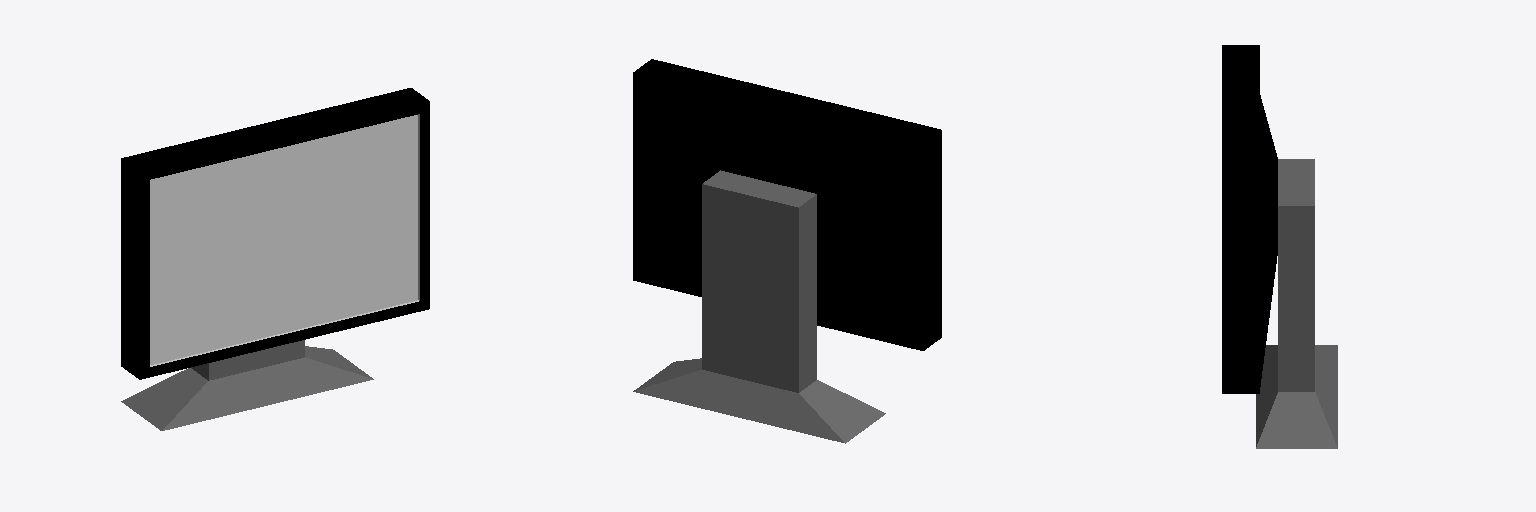
File: Monitor.obj
3 views of the same model, side by side, from view 1: azimuth 30°, elevation 25°; view 2: azimuth 150°, elevation 25°; view 3: azimuth 270°, elevation 25° (orthographic).
Parts seen in each view (by area): view 1: Monitor; view 2: Monitor; view 3: Monitor.
Boxes of the visible parts, <box> form: Monitor: <box>121,88,429,430</box>; Monitor: <box>633,59,941,443</box>; Monitor: <box>1222,45,1337,448</box>.
Bounding box in the file's own units: 1.08 × 1 × 0.372.